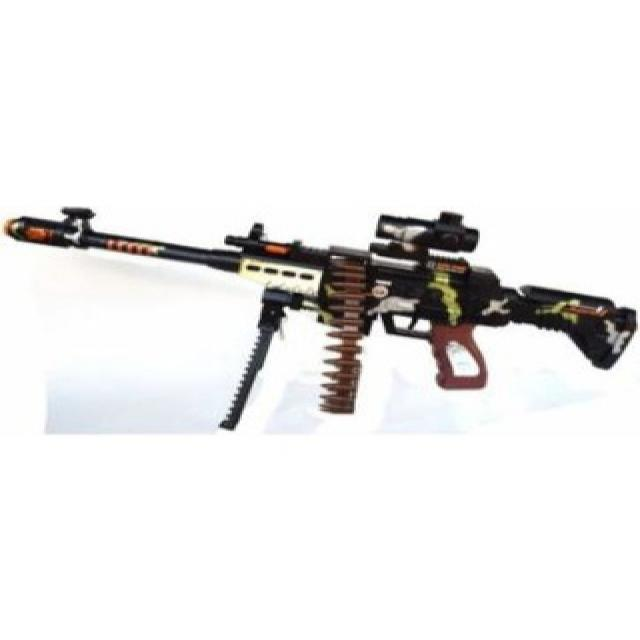weapon: (2, 173, 638, 430)
